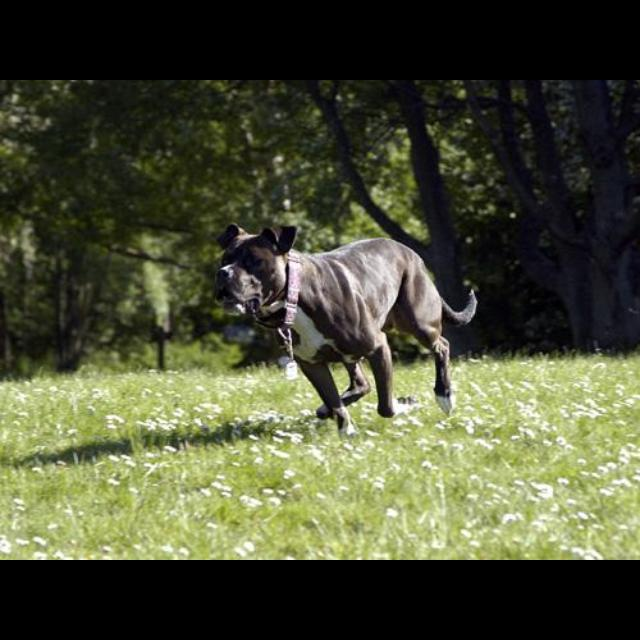amstaff: (214, 223, 478, 440)
